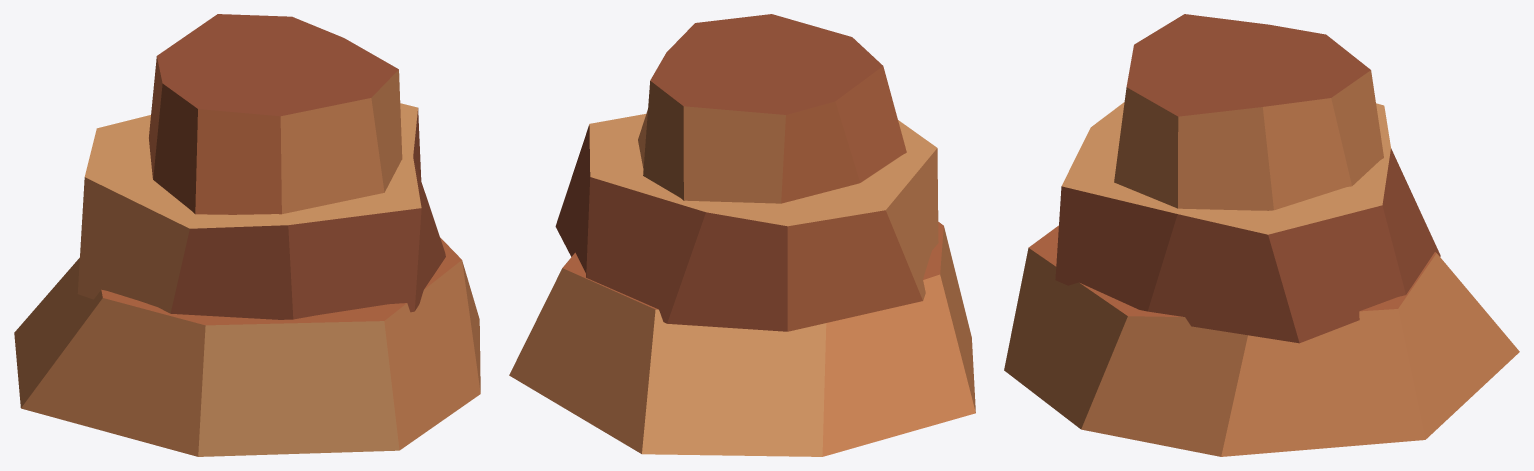
Rendered from butte_b.glb.
3 renders of one model, left to right at view 1: azimuth 30°, elevation 25°; view 2: azimuth 150°, elevation 25°; view 3: azimuth 270°, elevation 25°, orthographic. The views are drawn at different scales.
Parts seen in each view (by area): view 1: butte_b; view 2: butte_b; view 3: butte_b.
Part boxes in pixels (x1,y1,x2,y2): butte_b: [14, 14, 480, 456]; butte_b: [509, 14, 975, 456]; butte_b: [1004, 14, 1519, 456].
Size of the model in its own units: 39.87 by 26.49 by 40.87.
